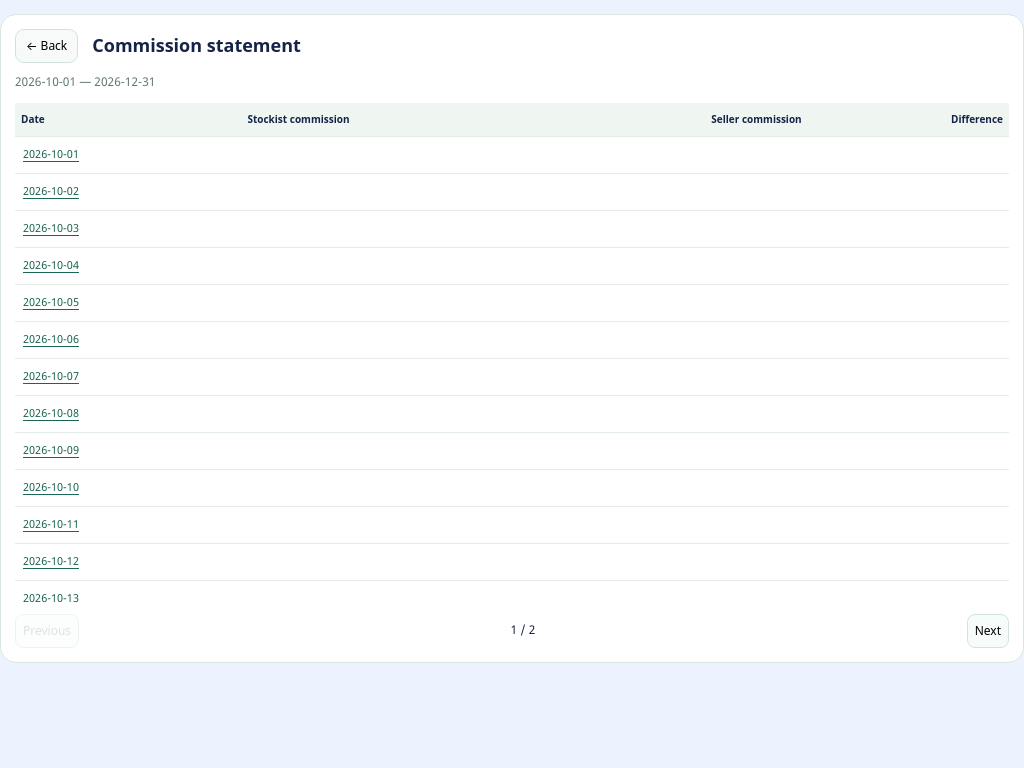
Test case: paginates long periods while keeping complete-period totals
This screenshot has width=1024, height=768.
Expected: the button "Previous" is disabled, [15,614,79,648]
Expected: the text "1 / 2" is shown, [510,623,535,639]
Step 1. Click the button "Next" → (988, 631), box [967,614,1009,648]
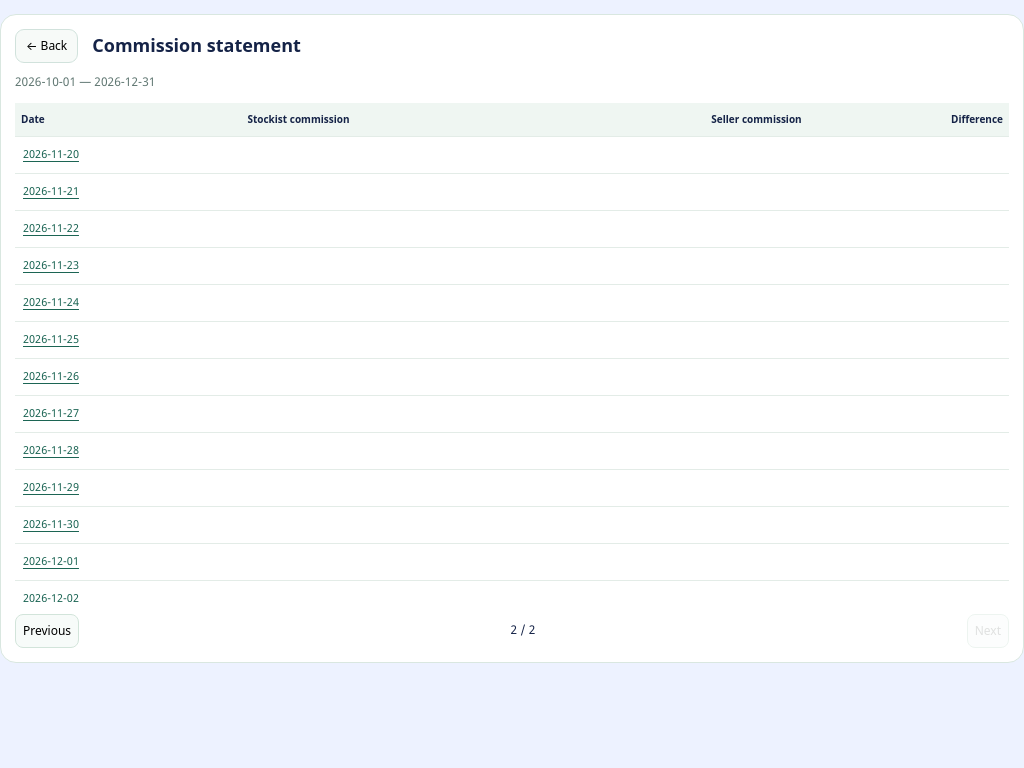
Expected: the text "2 / 2" is shown, [510,623,535,639]
Expected: the button "Next" is disabled, [967,614,1009,648]
Step 2. Click the button "Previous" → (47, 631), box [15,614,79,648]
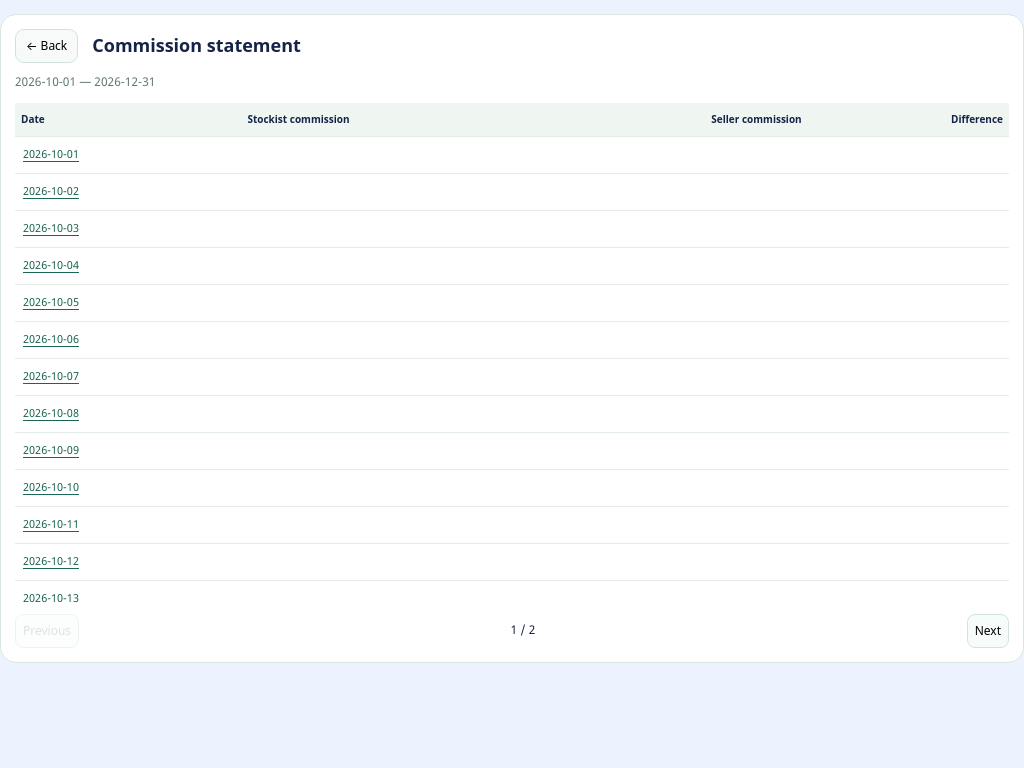
Expected: the text "1 / 2" is shown, [510,623,535,639]
